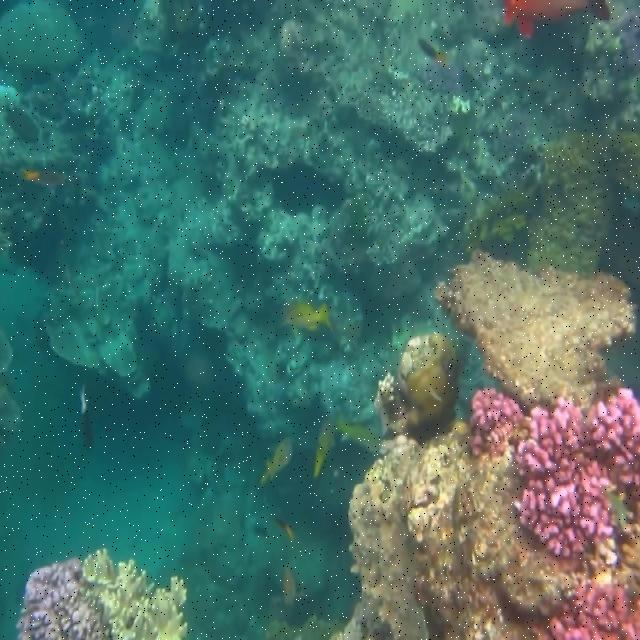reefs: (322, 250, 639, 639), (16, 550, 189, 639)
